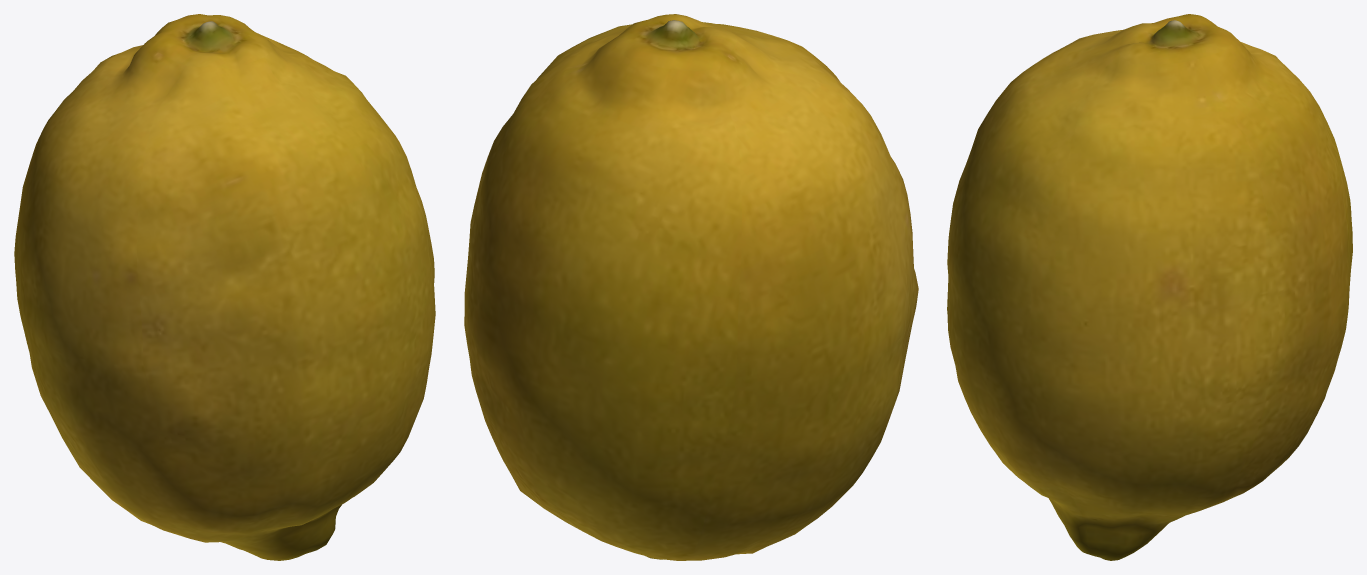
Rendered from lemon.glb.
The picture shows the model from 3 angles, left to right: view 1: azimuth 30°, elevation 25°; view 2: azimuth 150°, elevation 25°; view 3: azimuth 270°, elevation 25°; orthographic projection. The views are drawn at different scales.
Parts seen in each view (by area): view 1: lemon; view 2: lemon; view 3: lemon.
Boxes of the visible parts, left/top/right/bottom form: lemon: left=14, top=14, right=435, bottom=560; lemon: left=464, top=14, right=918, bottom=560; lemon: left=947, top=14, right=1352, bottom=560.
Bounding box in the file's own units: 0.0687 × 0.0954 × 0.0683.
Materials: 1 (1 with a texture image).
